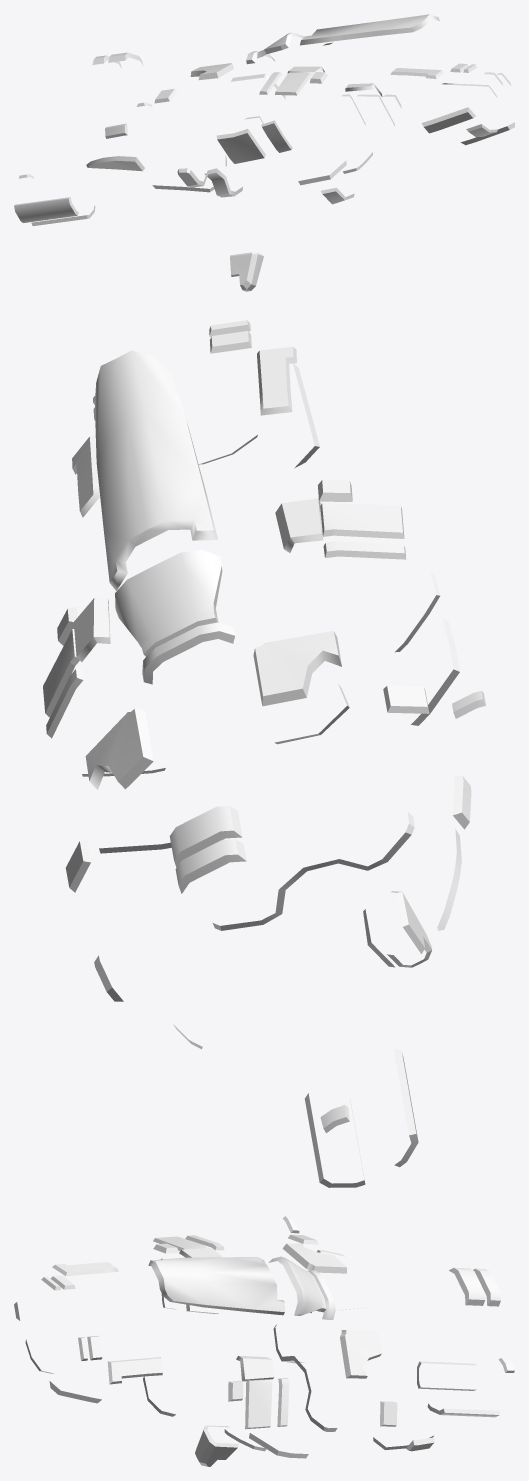
Rendered from ama_ship_wreck_02_01.glb.
The picture shows the model from 3 angles, top to bottom: view 1: azimuth 30°, elevation 25°; view 2: azimuth 150°, elevation 25°; view 3: azimuth 270°, elevation 25°; orthographic projection. The views are drawn at different scales.
Parts seen in each view (by area): view 1: ama_ship_wreck_02_01_LOD0; view 2: ama_ship_wreck_02_01_LOD0; view 3: ama_ship_wreck_02_01_LOD0.
Part boxes in pixels (bbox=[...]): ama_ship_wreck_02_01_LOD0: bbox=[14, 14, 514, 291]; ama_ship_wreck_02_01_LOD0: bbox=[43, 320, 485, 1187]; ama_ship_wreck_02_01_LOD0: bbox=[14, 1216, 514, 1466].
Size of what is drawn, in the model's own units: 4.38 by 3.22 by 4.95.
1 material, 1 textured.
